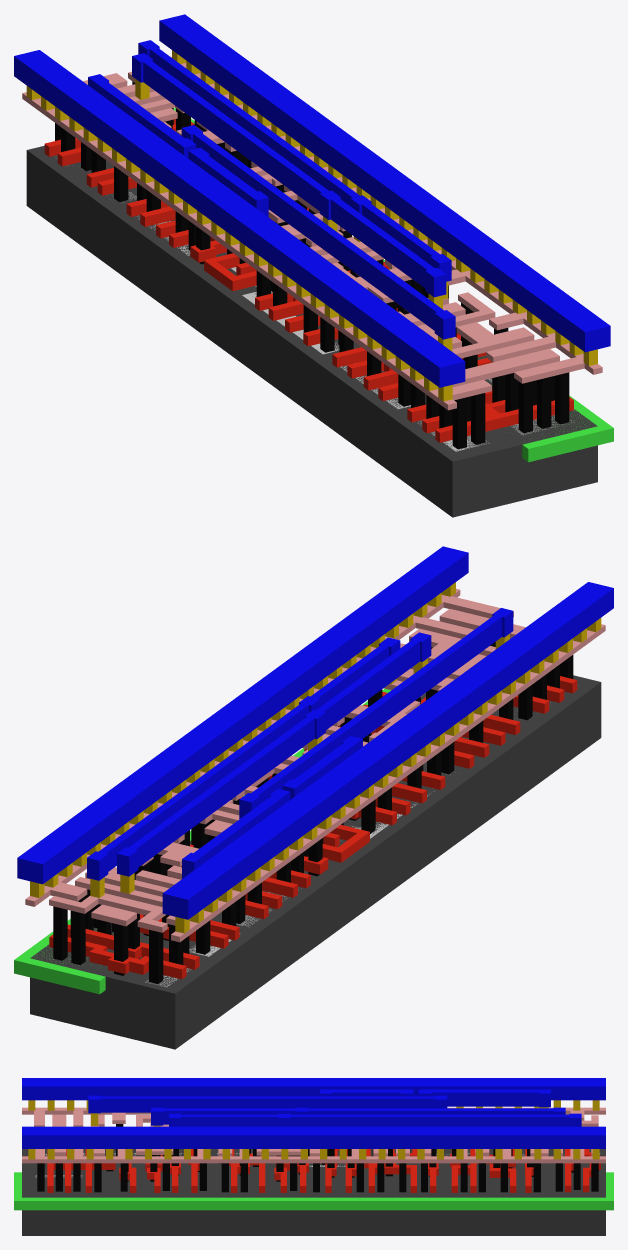
Rendered from sky130_fd_sc_hd__sedfxtp_2.obj.
3 renders of one model, top to bottom at view 1: azimuth 30°, elevation 25°; view 2: azimuth 150°, elevation 25°; view 3: azimuth 270°, elevation 25°, orthographic. The views are drawn at different scales.
Parts seen in each view (by area): view 1: metal1, subs, li, licon, poly, mcon, nwell, diff; view 2: metal1, subs, li, licon, poly, mcon, nwell; view 3: metal1, subs, nwell, li, poly, licon, mcon.
Part boxes in pixels (bbox=[...]): metal1: bbox=[14, 14, 610, 387]; subs: bbox=[26, 145, 597, 517]; li: bbox=[22, 56, 602, 410]; licon: bbox=[55, 81, 569, 449]; poly: bbox=[44, 119, 573, 442]; mcon: bbox=[26, 50, 597, 401]; nwell: bbox=[173, 108, 613, 462]; diff: bbox=[56, 158, 488, 451]; metal1: bbox=[17, 546, 613, 919]; subs: bbox=[30, 675, 601, 1049]; li: bbox=[25, 588, 605, 942]; licon: bbox=[53, 642, 573, 983]; poly: bbox=[49, 676, 577, 979]; mcon: bbox=[30, 582, 601, 933]; nwell: bbox=[14, 688, 390, 994]; metal1: bbox=[22, 1078, 605, 1148]; subs: bbox=[22, 1149, 605, 1235]; nwell: bbox=[14, 1172, 613, 1210]; li: bbox=[22, 1107, 605, 1163]; poly: bbox=[47, 1149, 600, 1192]; licon: bbox=[37, 1124, 598, 1192]; mcon: bbox=[28, 1100, 599, 1159].
Bounding box in the file's own units: 3.2 × 2.74 × 14.18.
